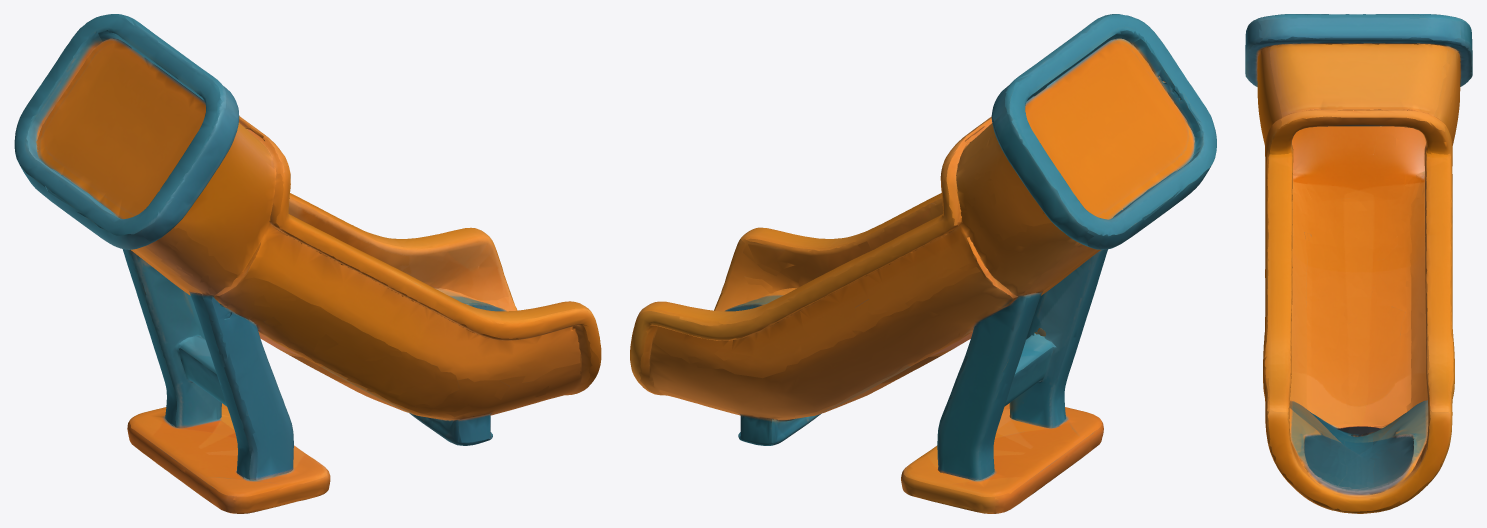
File: chute.glb
The picture shows the model from 3 angles, left to right: view 1: azimuth 30°, elevation 25°; view 2: azimuth 150°, elevation 25°; view 3: azimuth 270°, elevation 25°; orthographic projection. The views are drawn at different scales.
Visible parts, largest first — view 1: geometry_0; view 2: geometry_0; view 3: geometry_0.
Boxes of the visible parts, x1,y1,x2,y2 form: geometry_0: (14, 14, 601, 513); geometry_0: (630, 14, 1216, 513); geometry_0: (1245, 14, 1472, 513).
Size of the model in its own units: 0.45 by 0.3831 by 0.2226.
Materials: 1 (1 with a texture image).
